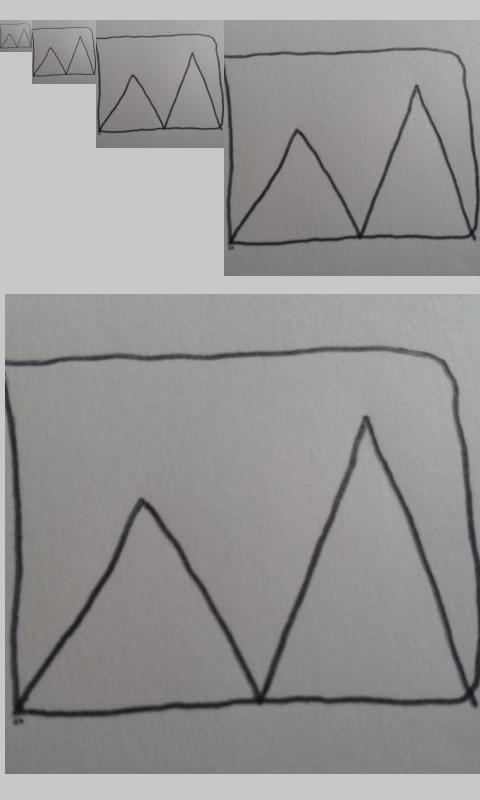image_view: (6, 346, 480, 718), (225, 47, 480, 249), (97, 33, 224, 135), (33, 27, 96, 77), (1, 23, 33, 49)
